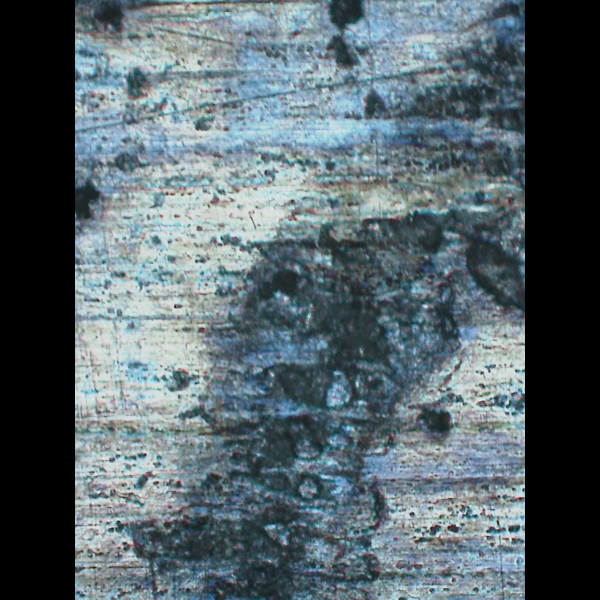d: (137, 8, 524, 600)
